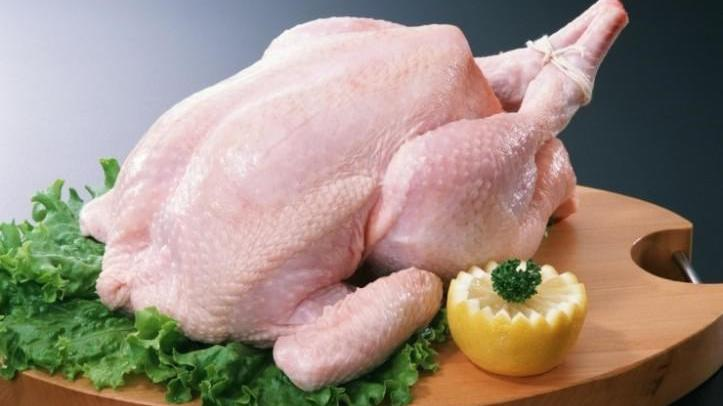chicken: (87, 0, 711, 247)
